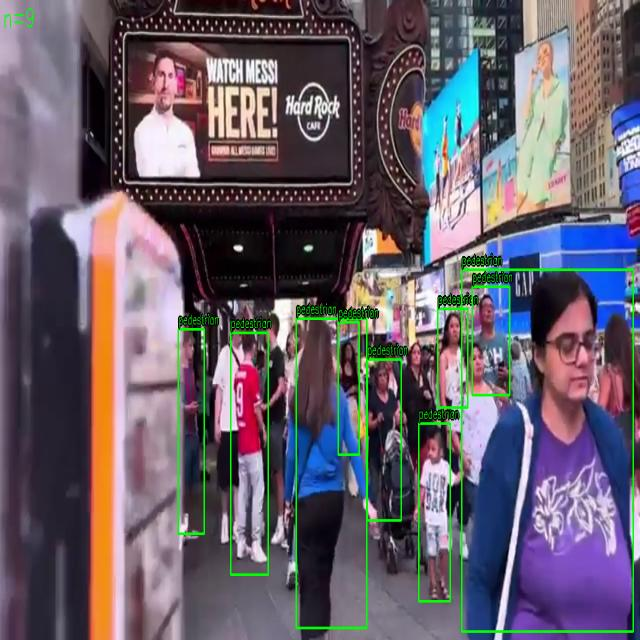with scooter: (462, 269, 634, 632), (296, 318, 367, 628), (230, 333, 268, 575), (418, 423, 451, 602), (367, 359, 401, 521), (178, 329, 204, 534), (472, 286, 510, 396), (438, 308, 468, 408), (338, 322, 360, 455)
